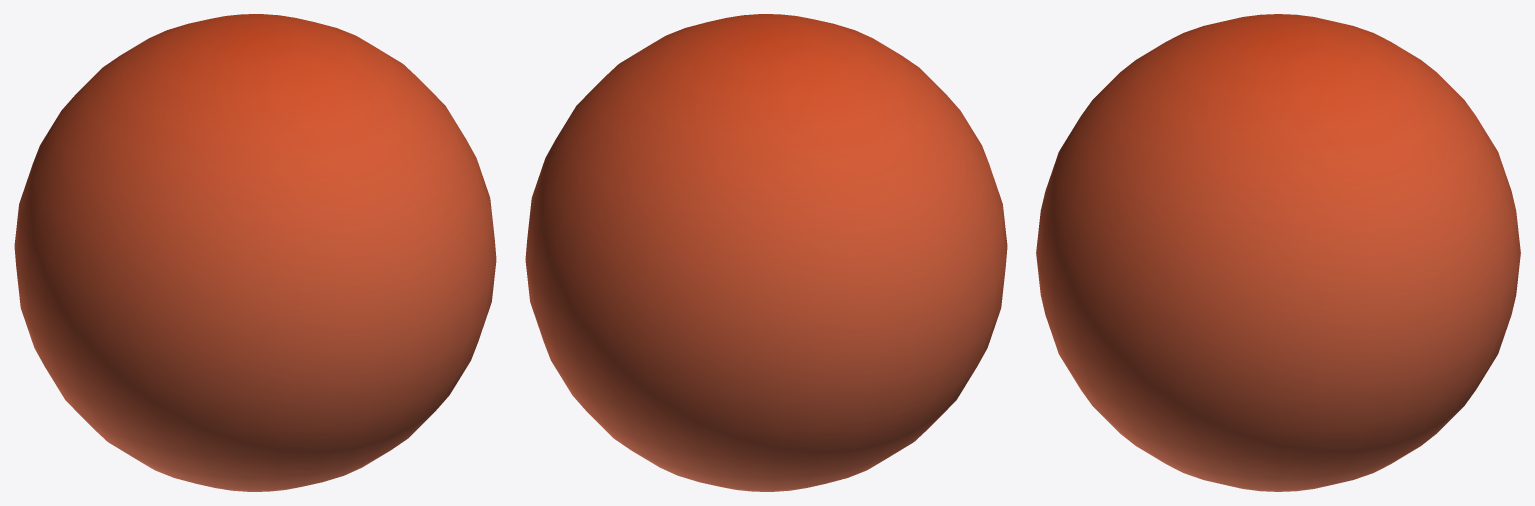
The model's file is bulletEnemy.obj.
The picture shows the model from 3 angles, left to right: view 1: azimuth 30°, elevation 25°; view 2: azimuth 150°, elevation 25°; view 3: azimuth 270°, elevation 25°; orthographic projection.
Parts seen in each view (by area): view 1: 球; view 2: 球; view 3: 球.
Boxes of the visible parts, x1=… form: 球: x1=14, y1=14, x2=496, y2=491; 球: x1=525, y1=14, x2=1007, y2=491; 球: x1=1036, y1=14, x2=1520, y2=491.
Bounding box in the file's own units: 15.32 × 15.16 × 15.39.
